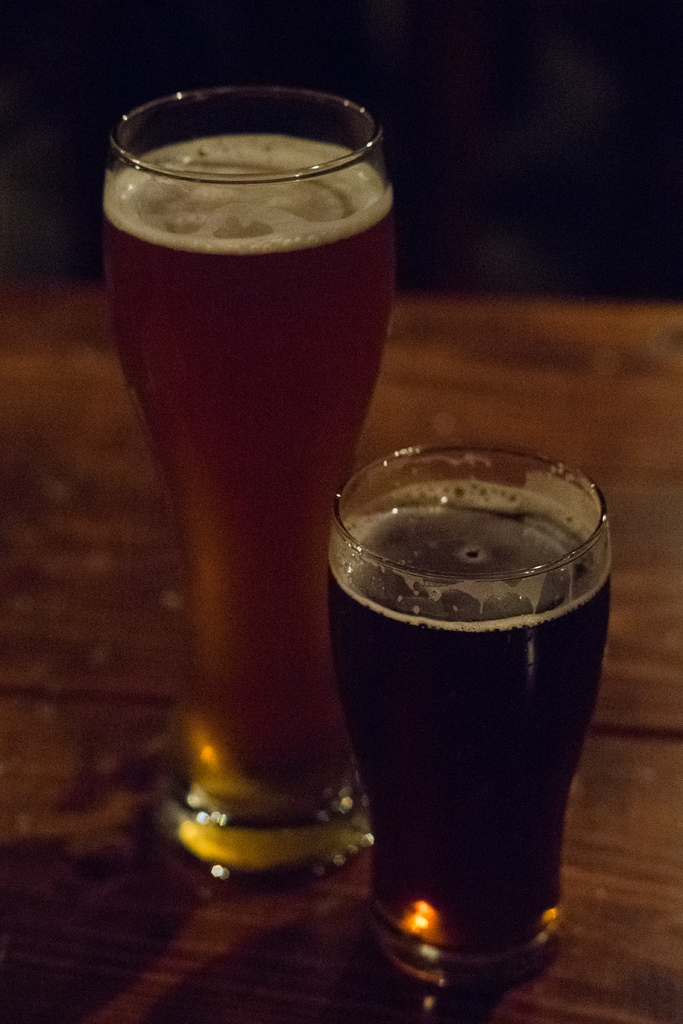Beer: (101, 81, 394, 890), (329, 442, 610, 993)
